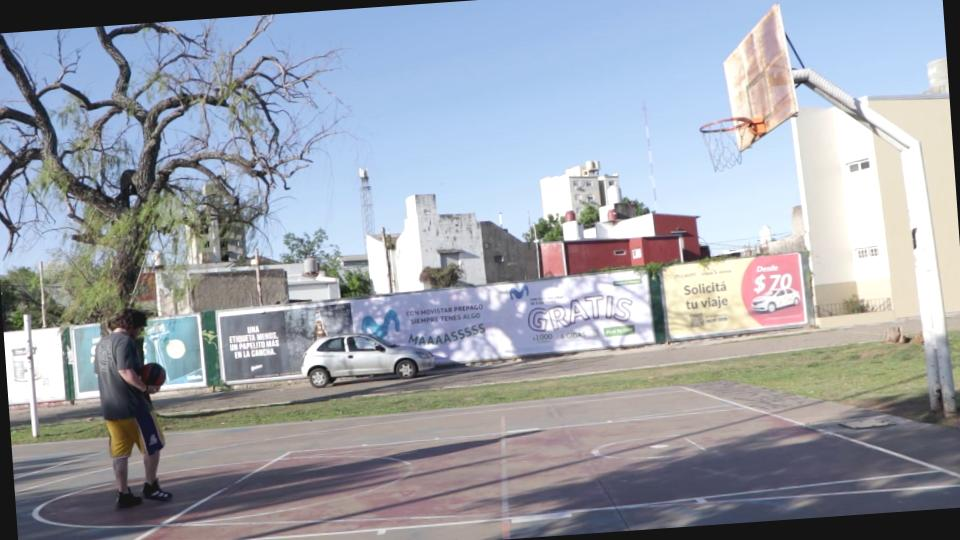hoop: (698, 115, 754, 135)
